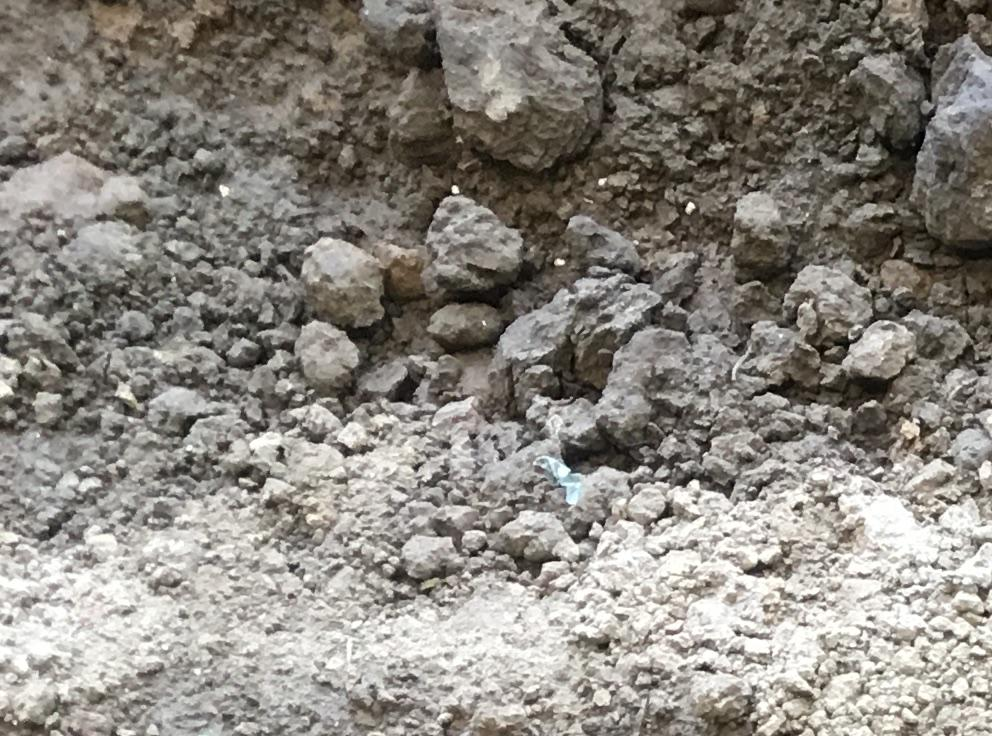block: (431, 5, 602, 178), (924, 37, 992, 246), (415, 195, 528, 304), (290, 234, 387, 329)
